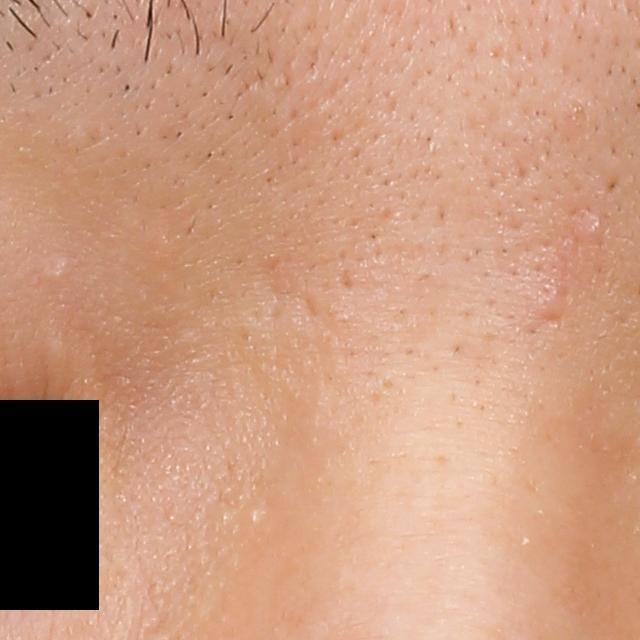atrophic_scar: (537, 300, 566, 336)
comedo: (42, 258, 70, 284), (581, 218, 607, 239)
